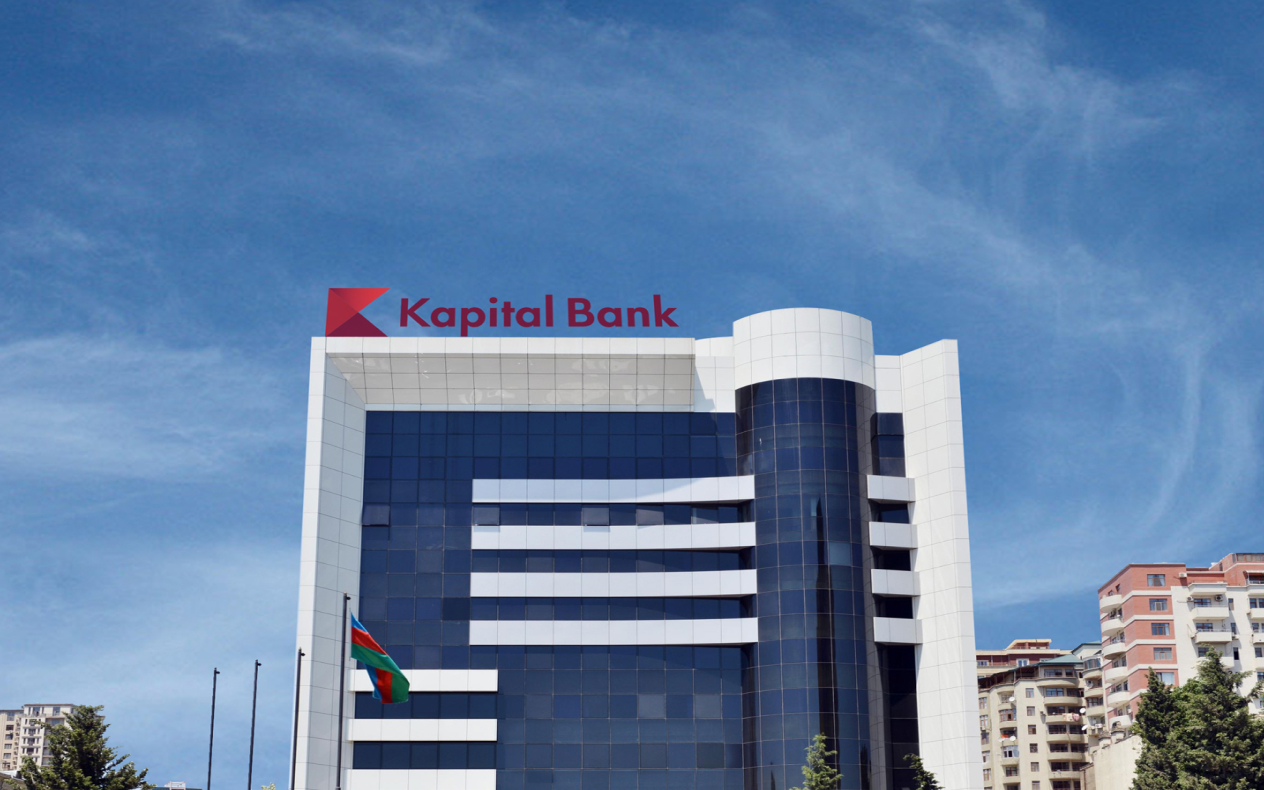Kapital Bank: (324, 286, 391, 339)
